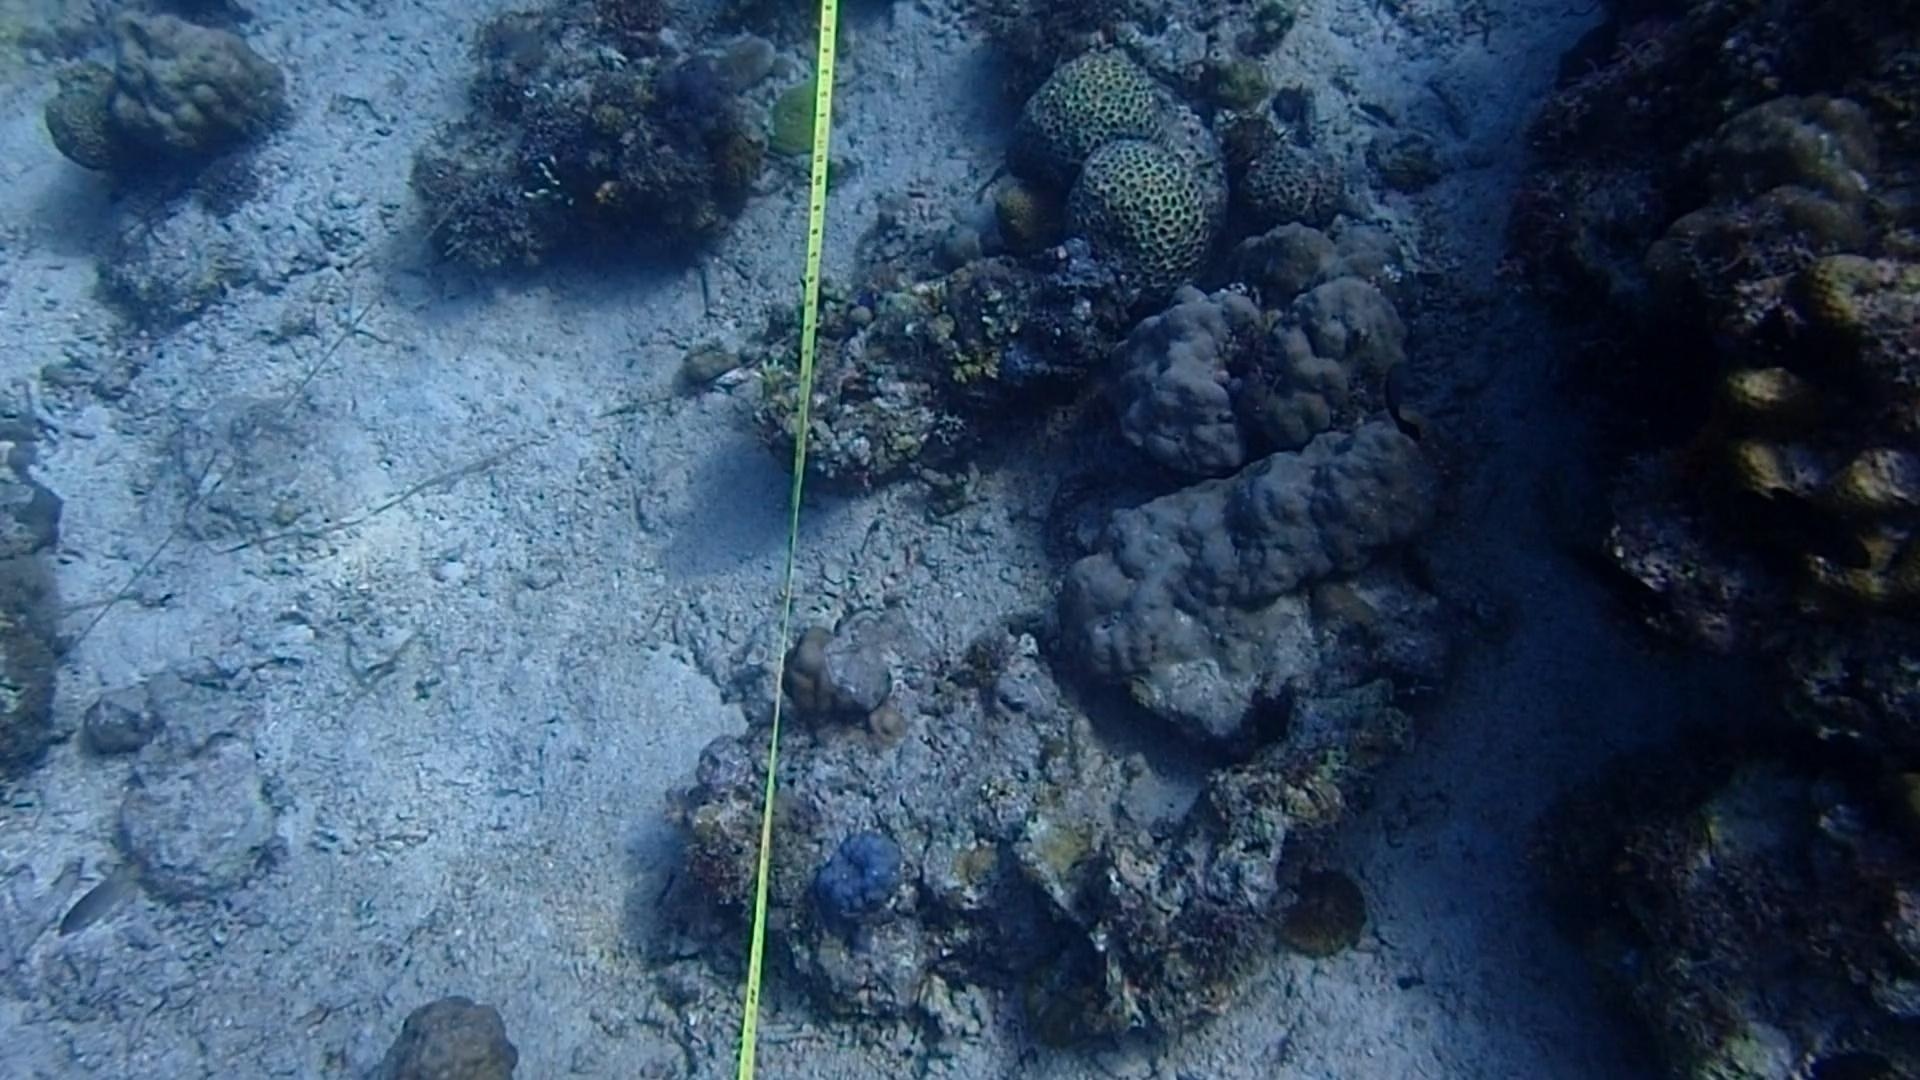Dark Fish: (1726, 471, 1873, 591), (1768, 301, 1882, 405), (1373, 345, 1443, 451), (1811, 1043, 1887, 1080)
Light Fish: (55, 856, 142, 952)
